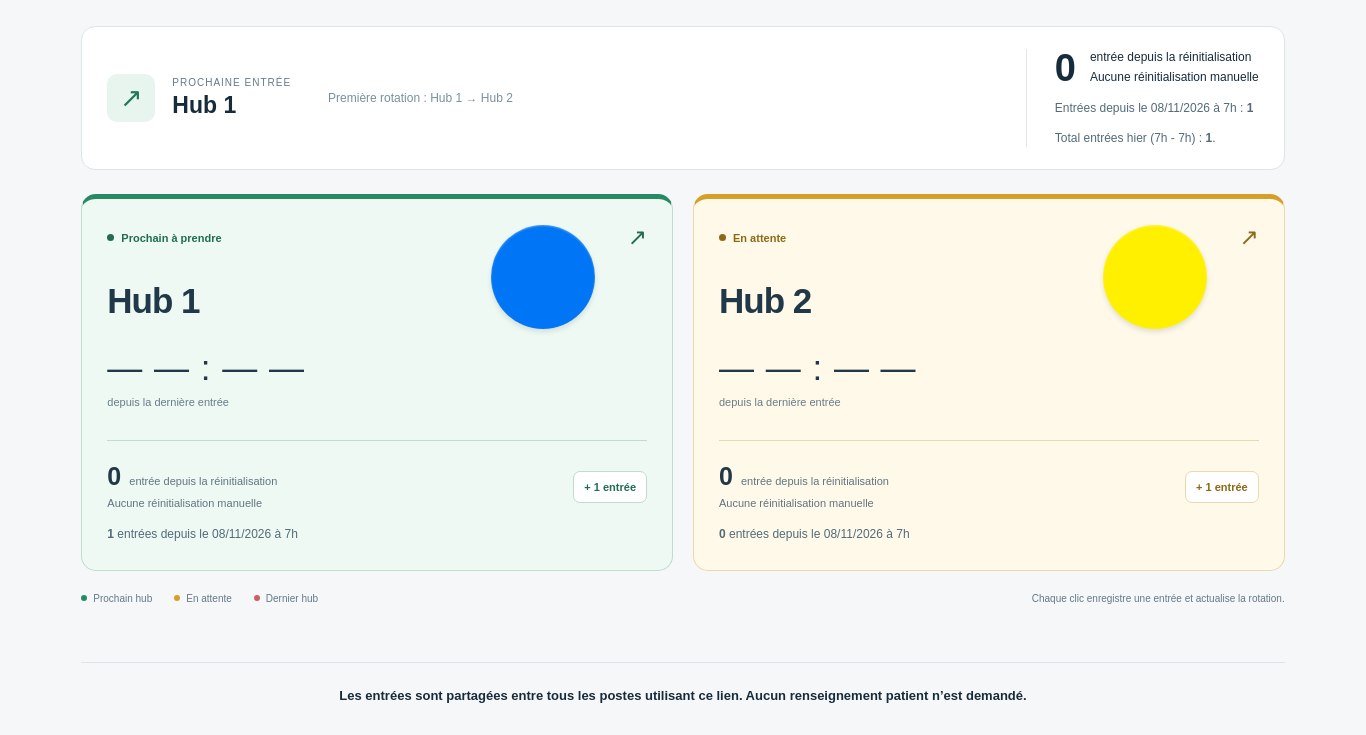
Test case: Interface Rangueil › n'envoie rien si la sauvegarde locale échoue
(page scrolled)
Click the button with aria-label "Enregistrer une entrée dans le Hub 1": (377, 385) left=82, top=199, right=672, bottom=570
(page scrolled)
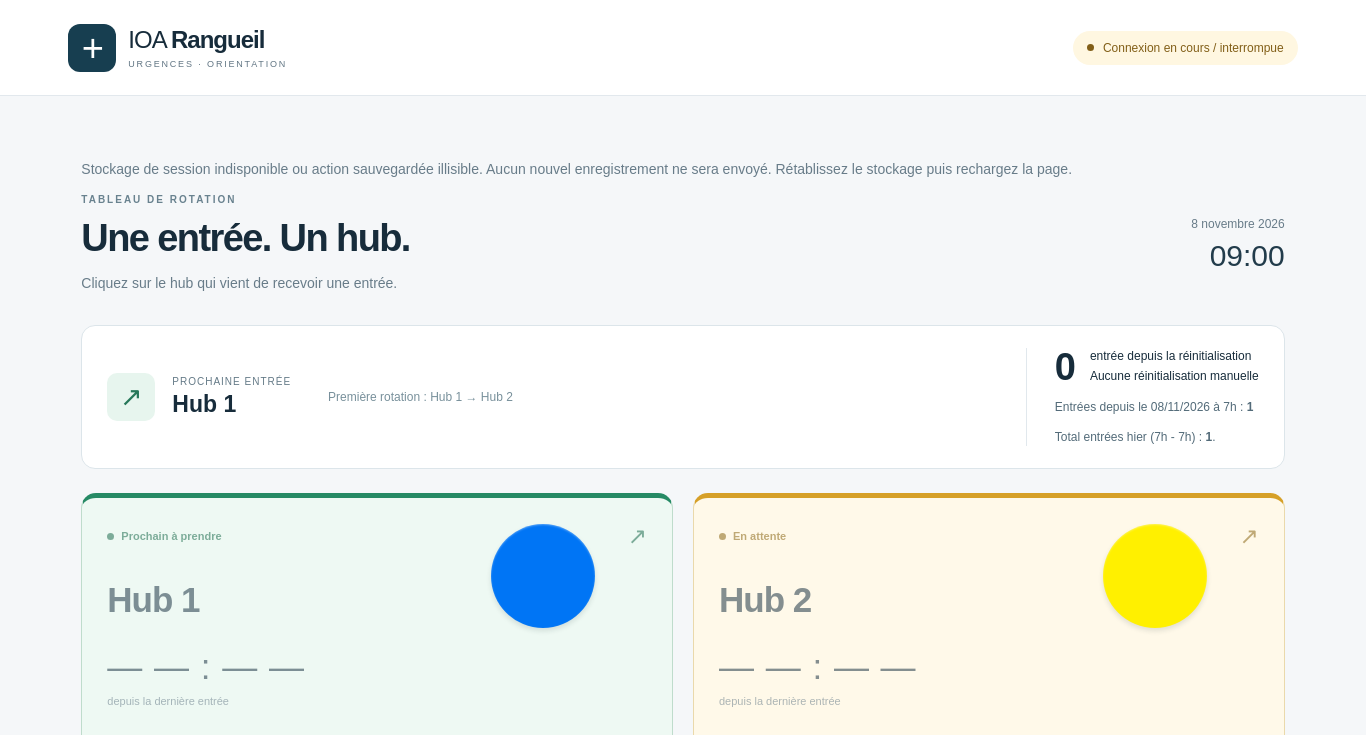
Expected: the message shows "Stockage", left=81, top=161, right=1072, bottom=177
